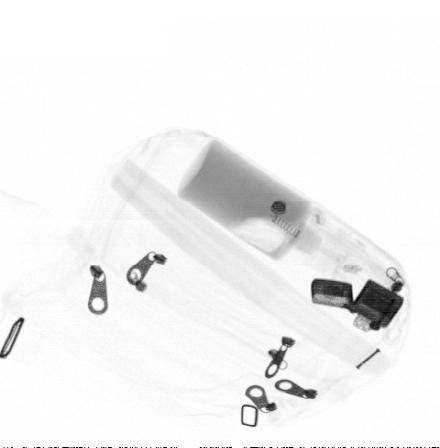Lighter: (310, 278, 405, 332)
